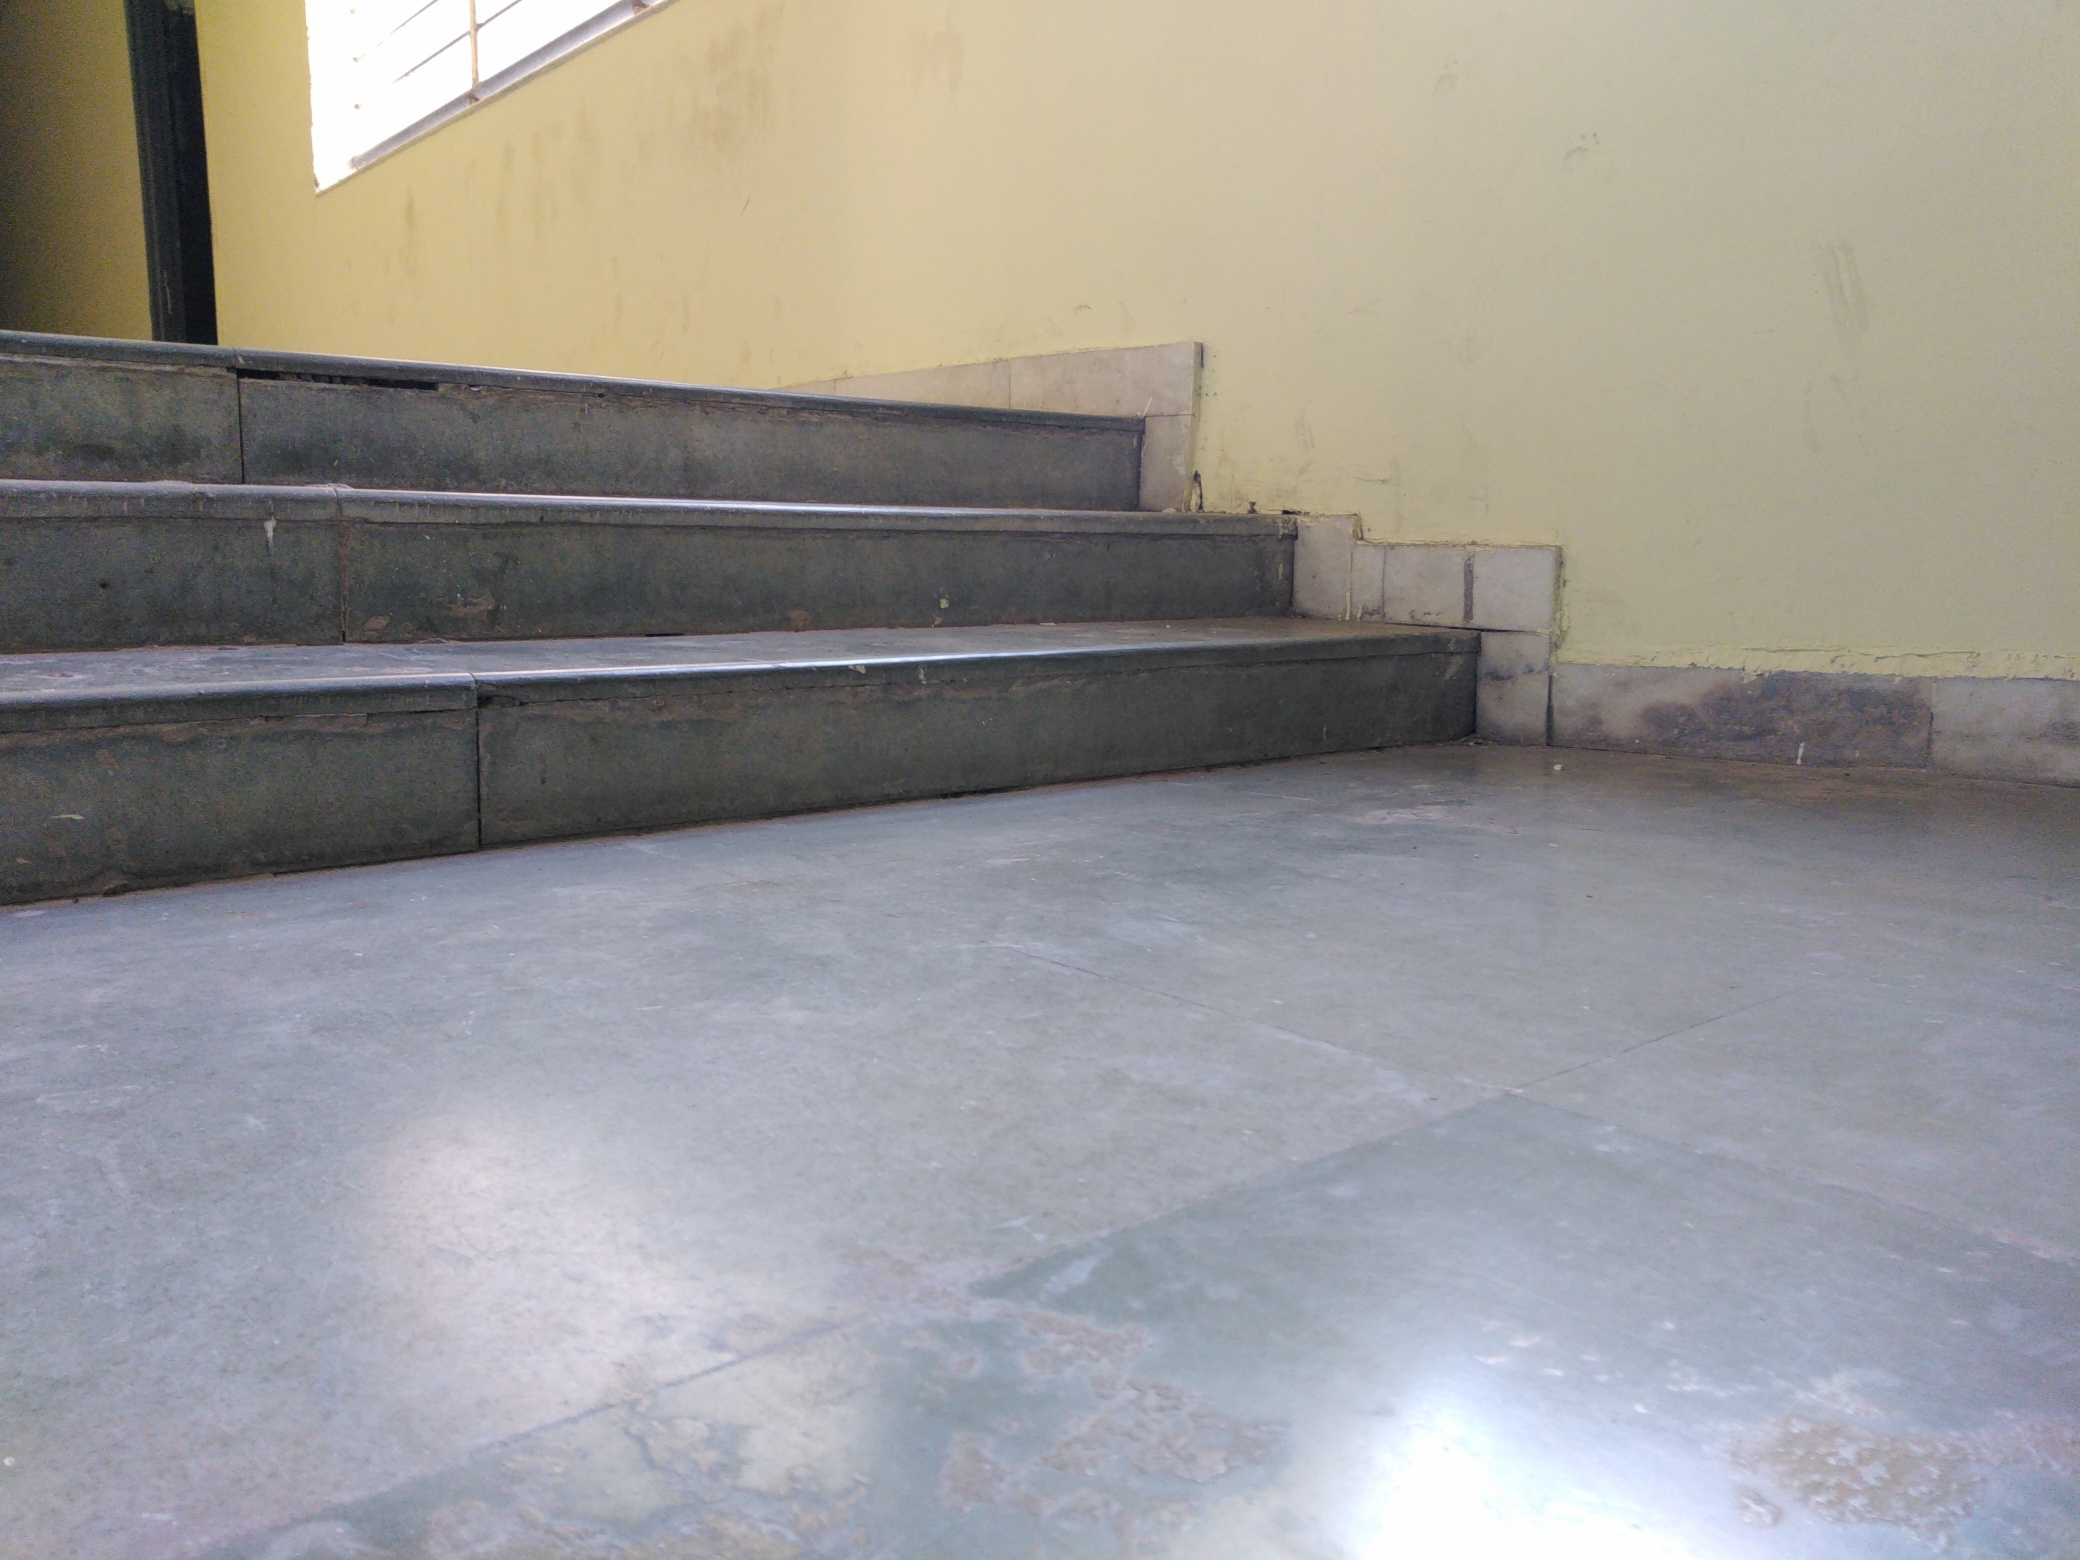stairs_up: (3, 326, 1522, 764)
